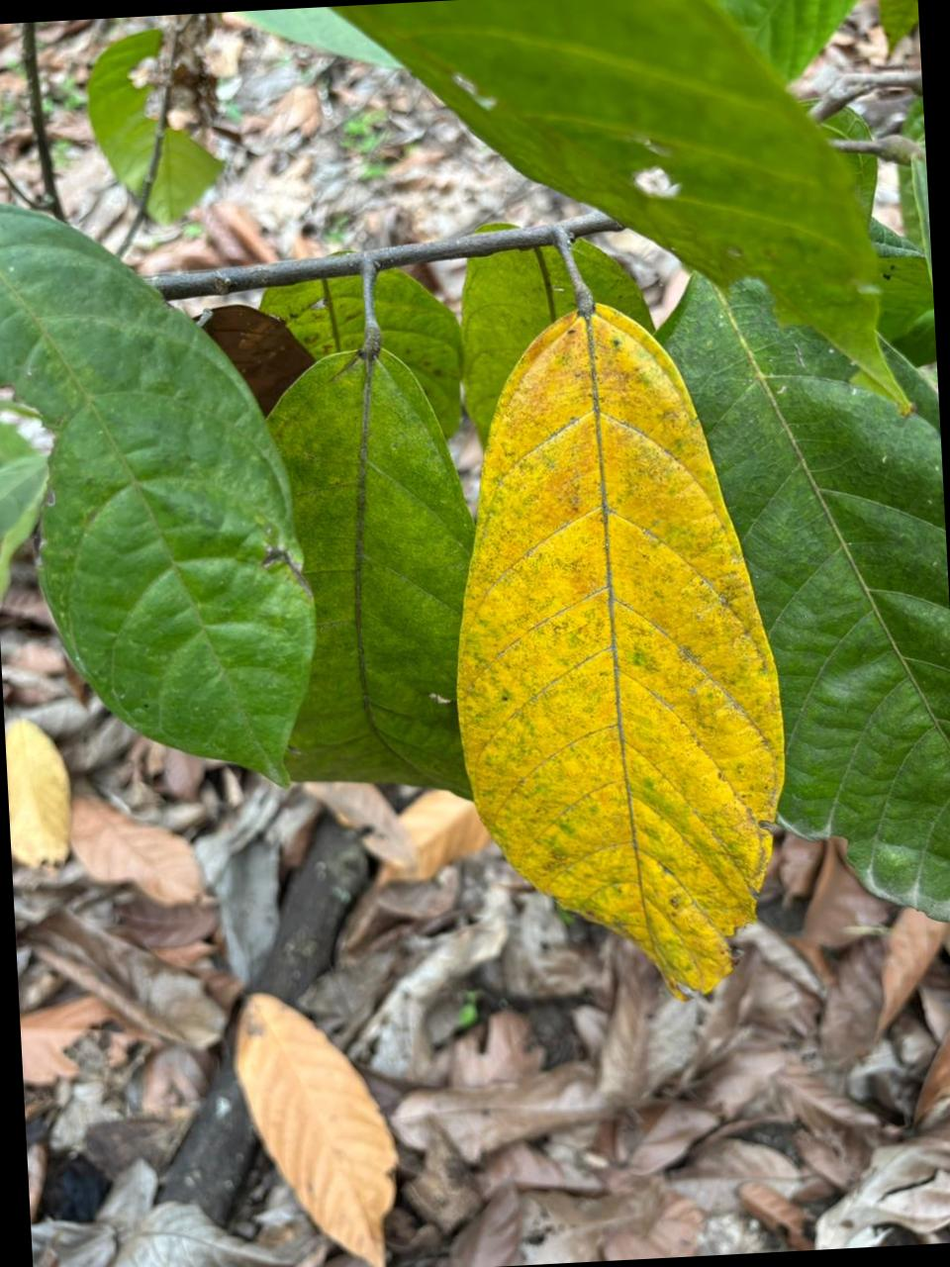Fosforo: (458, 305, 783, 992)
